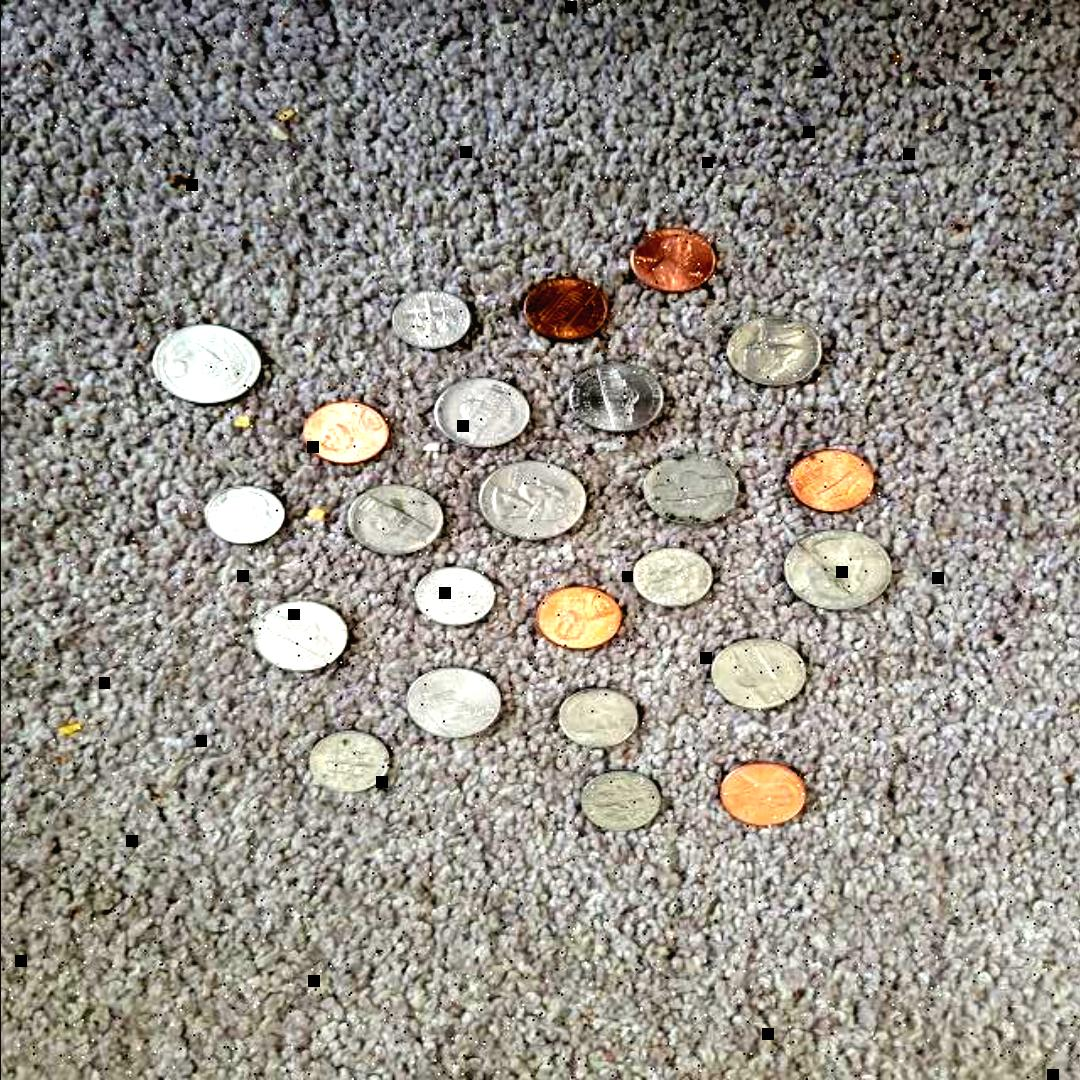Dime: (628, 542, 716, 610), (410, 564, 497, 632), (386, 289, 474, 356), (304, 727, 391, 794), (552, 683, 639, 750), (200, 484, 288, 550), (576, 768, 662, 835)
Nickel: (560, 360, 666, 438), (703, 632, 809, 710), (640, 452, 746, 530), (718, 312, 824, 390), (343, 480, 449, 558), (398, 664, 504, 741), (250, 596, 356, 672), (426, 374, 532, 450)
Penny: (518, 274, 616, 346), (714, 753, 812, 825), (778, 442, 876, 514), (300, 397, 396, 469), (624, 226, 720, 298), (534, 582, 630, 654)
Quarter: (144, 321, 264, 405), (470, 461, 590, 545), (776, 530, 894, 614)
